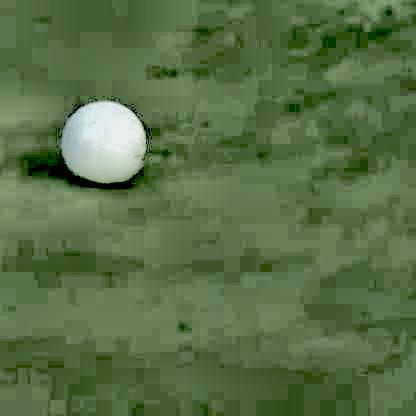golfball: (55, 98, 143, 181)
